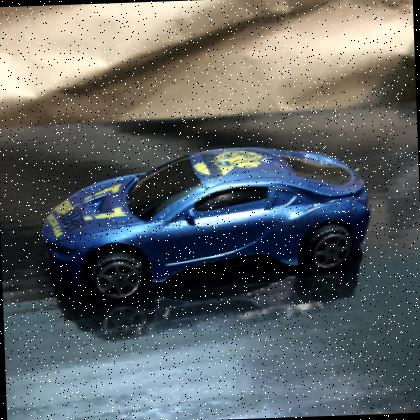Car: (41, 148, 371, 302)
